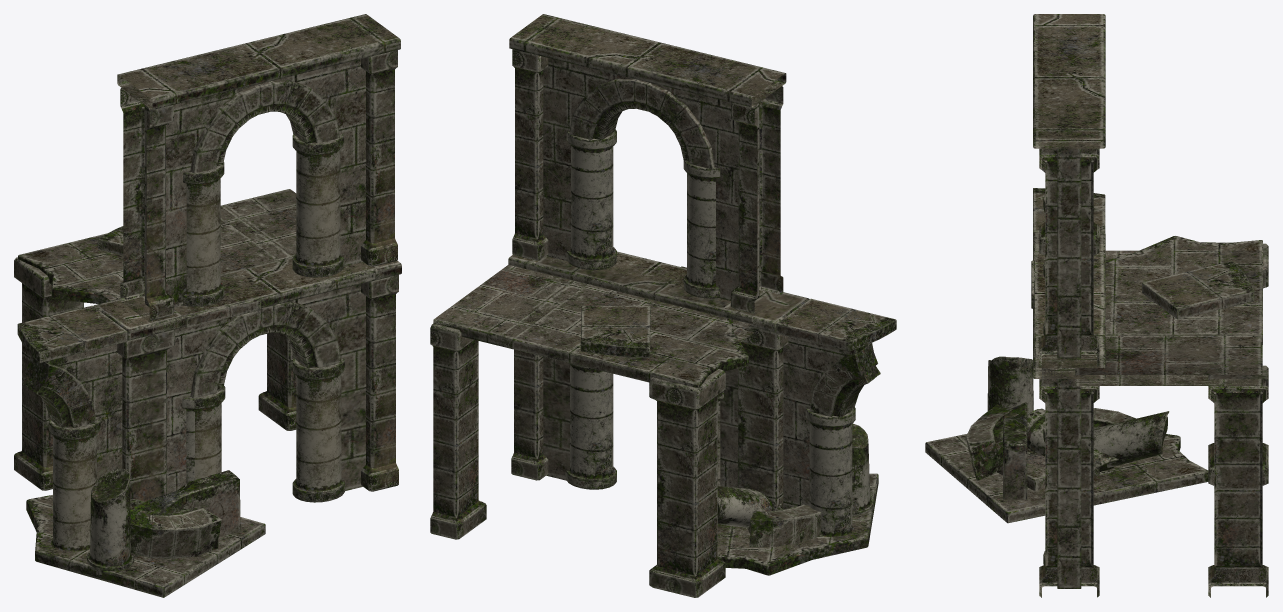
File: ruins_kit.gltf
3 views of the same model, side by side, from view 1: azimuth 30°, elevation 25°; view 2: azimuth 150°, elevation 25°; view 3: azimuth 270°, elevation 25° (orthographic). The views are drawn at different scales.
Visible parts, largest first — view 1: upper_a, bay_a, end_l, bay_b, rubble_r, end_r, slab_fallen_l, rubble_l; view 2: upper_a, bay_b, end_l, bay_a, slab_fallen_l, rubble_r, end_r, rubble_l; view 3: bay_b, upper_a, slab_fallen_l, bay_a, rubble_r, rubble_l, end_l, column_fallen, slab_fallen_r.
Boxes of the visible parts, box(x1,y1,x2,y2) form: upper_a: box(117, 14, 400, 321); bay_a: box(65, 189, 399, 502); end_l: box(14, 249, 152, 551); bay_b: box(41, 189, 401, 500); rubble_r: box(86, 468, 240, 577); end_r: box(64, 293, 261, 500); slab_fallen_l: box(26, 495, 265, 597); rubble_l: box(130, 507, 221, 558); upper_a: box(509, 14, 786, 314); bay_b: box(430, 255, 783, 592); end_l: box(673, 292, 896, 597); bay_a: box(431, 251, 784, 582); slab_fallen_l: box(717, 473, 878, 575); rubble_r: box(749, 423, 873, 547); end_r: box(653, 266, 757, 592); rubble_l: box(717, 486, 782, 527); bay_b: box(1033, 244, 1268, 597); upper_a: box(1033, 14, 1105, 367); slab_fallen_l: box(925, 434, 1208, 523); bay_a: box(1033, 244, 1268, 596); rubble_r: box(987, 356, 1135, 499); rubble_l: box(966, 404, 1169, 480); end_l: box(1033, 188, 1268, 455); column_fallen: box(1027, 408, 1118, 471); slab_fallen_r: box(998, 449, 1045, 490).
Bounding box in the file's own units: 7.08 × 8.4 × 5.69.
1 material, 1 textured.
